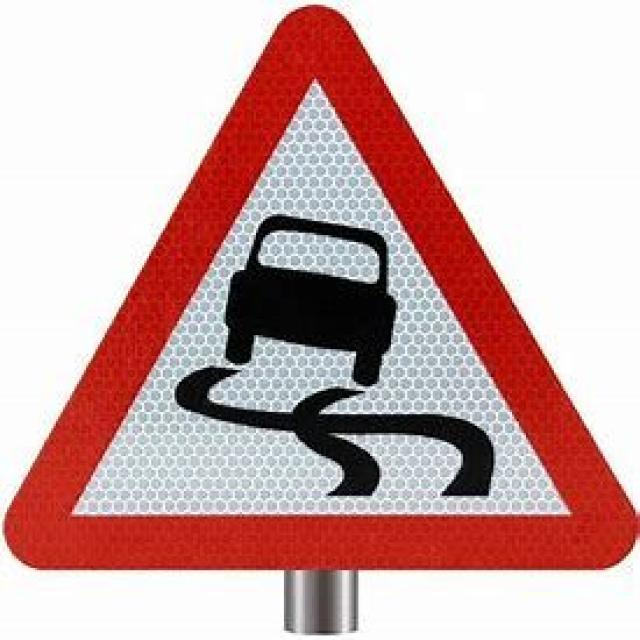children: (0, 2, 638, 568)
